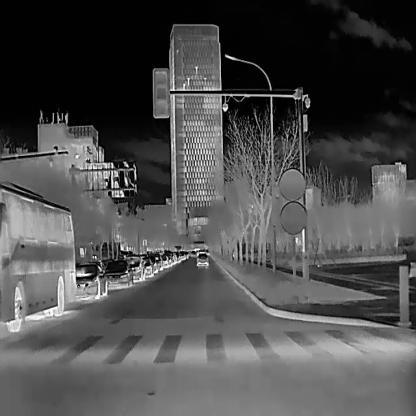car: (0, 181, 74, 333), (75, 262, 108, 299), (104, 259, 134, 287), (123, 254, 144, 281), (141, 255, 152, 277), (195, 252, 208, 266), (149, 253, 157, 273), (153, 253, 162, 270), (161, 252, 169, 267), (166, 250, 174, 264)
